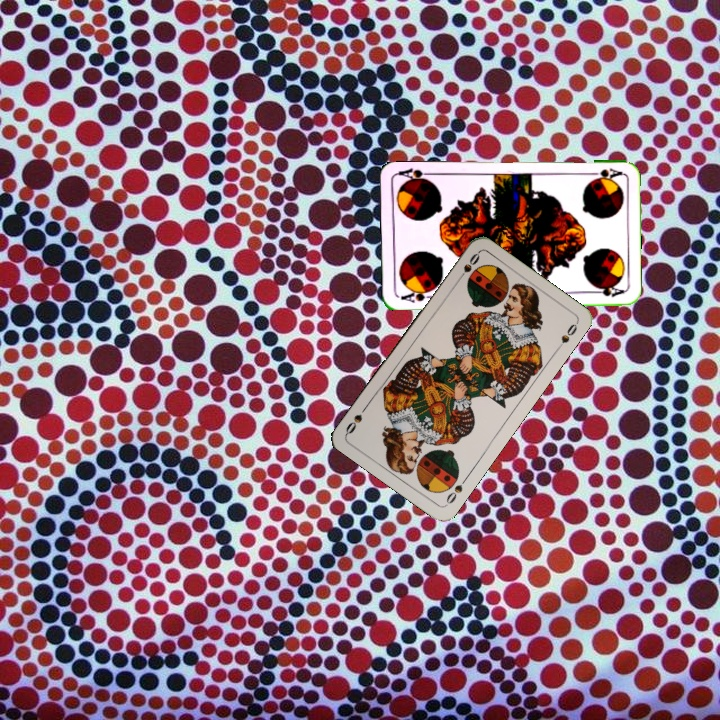SA: (397, 285, 437, 305), (583, 164, 624, 183)
SO: (453, 249, 482, 284), (442, 473, 470, 508)
